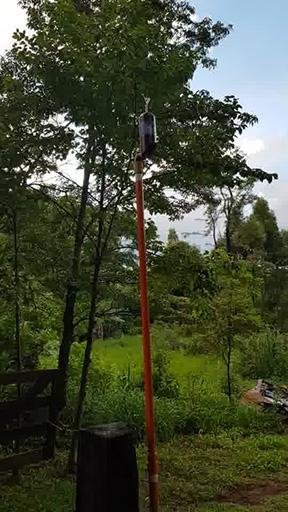Detector_Tensao_Contato: (137, 94, 156, 160)
Vara_Manobra: (131, 159, 163, 512)
